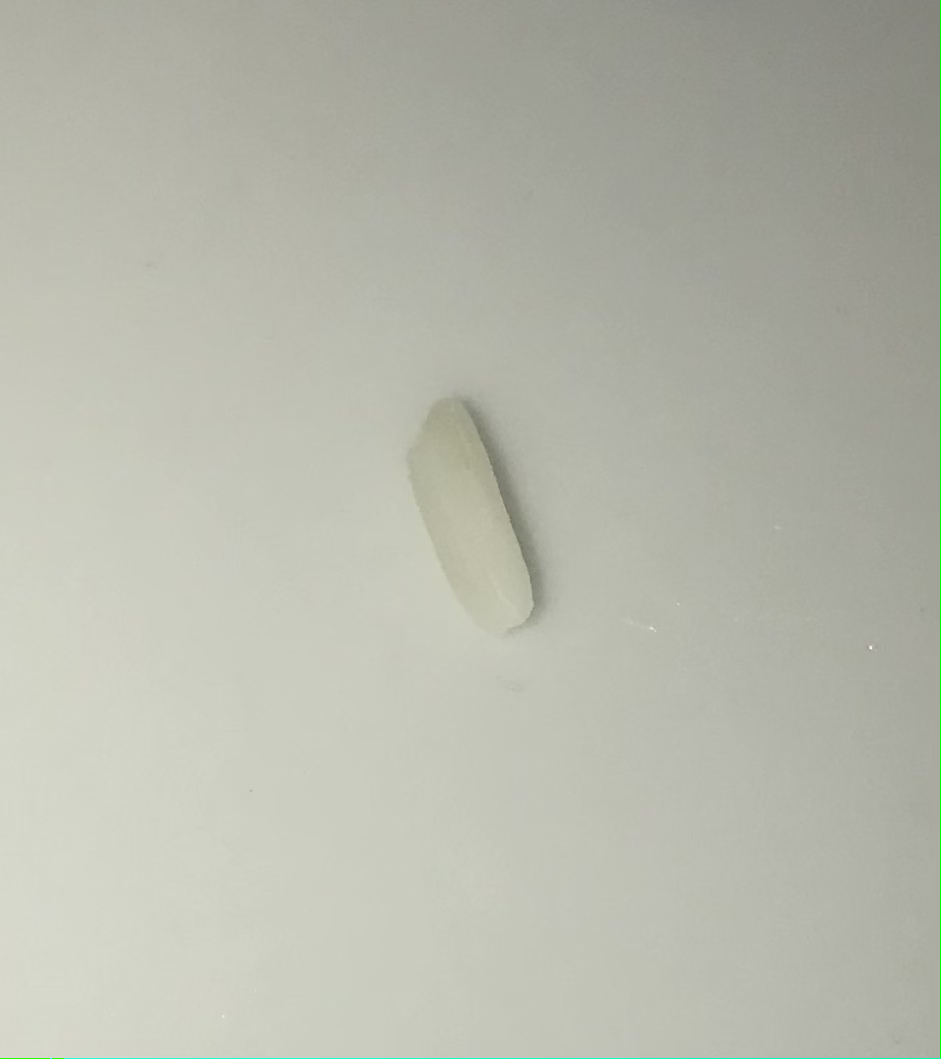Gao Thom Go Cong: (381, 379, 561, 636)
